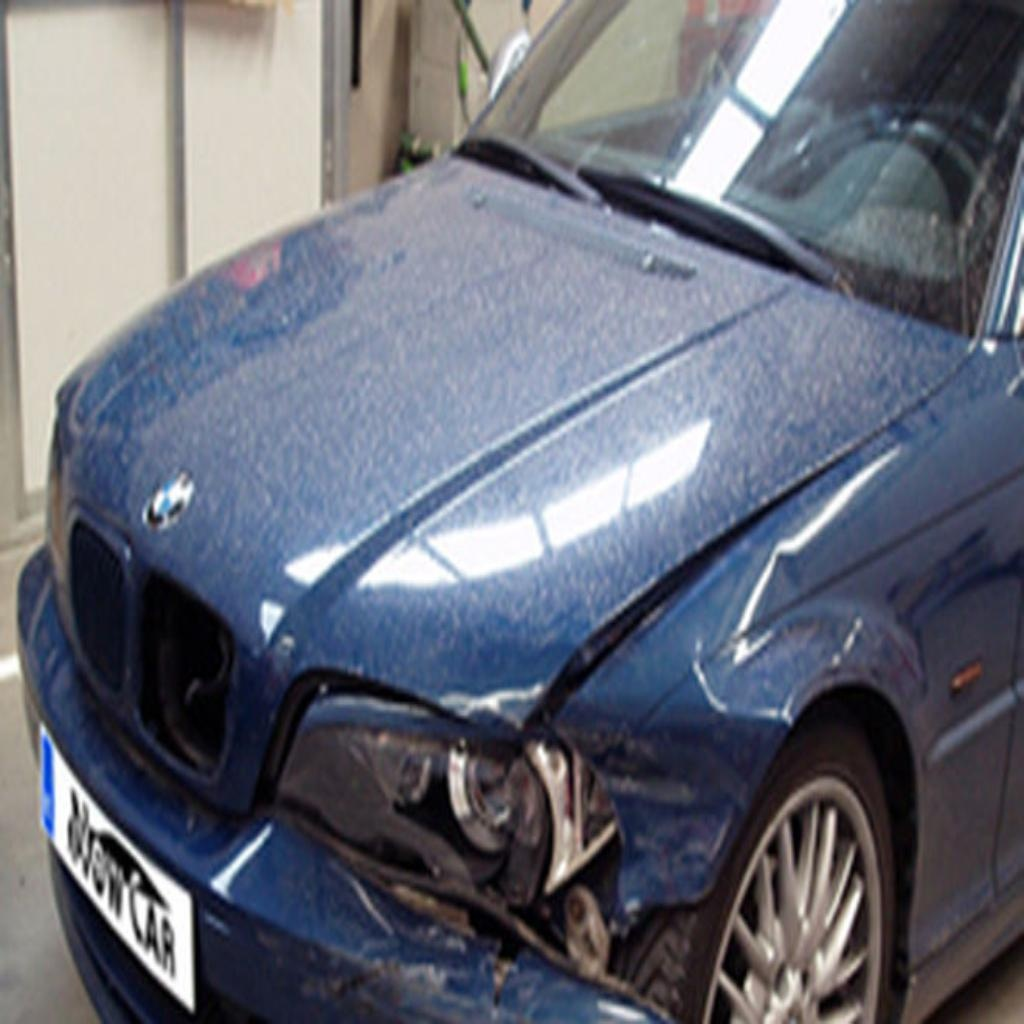Broken-glass: (286, 686, 611, 914)
Dent: (517, 525, 921, 1024)
Scratch: (293, 939, 542, 1024)
